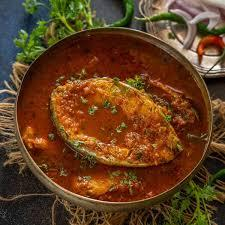Fish Curry: (30, 44, 197, 194)
